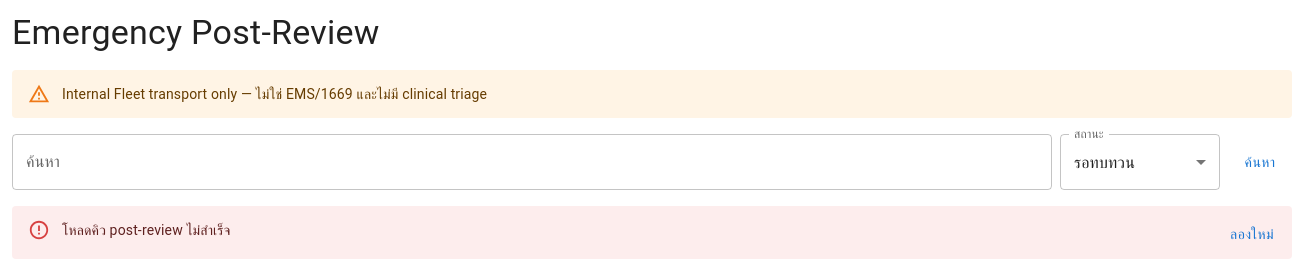
Fleet M4.2 emergency UI › renders post-review API error and retry
This screenshot has width=1304, height=276.
Check: the text "โหลดคิว post-review ไม่สำเร็จ" is shown, box top-left (62, 222), bottom-right (231, 238)
Click the button "ลองใหม่": point(1252, 234) top-left (1220, 216), bottom-right (1284, 252)
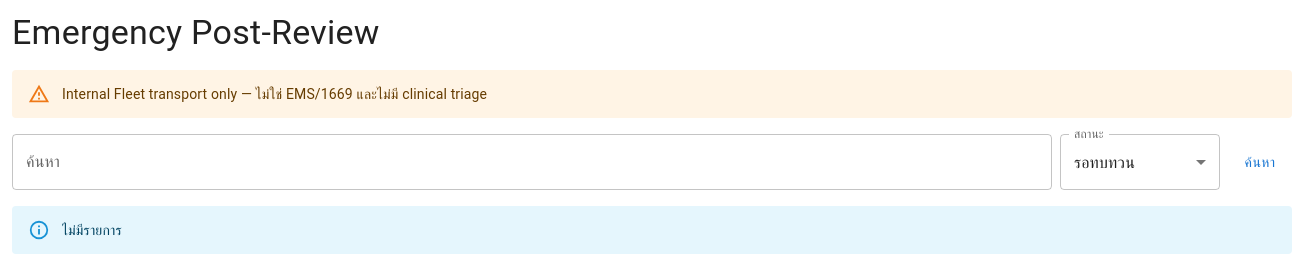
Check: the text "ไม่มีรายการ" is shown, box top-left (62, 222), bottom-right (122, 238)
